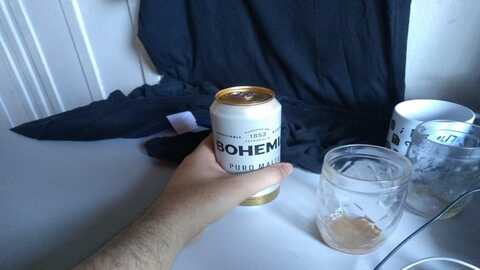bohemia: (206, 90, 286, 211)
